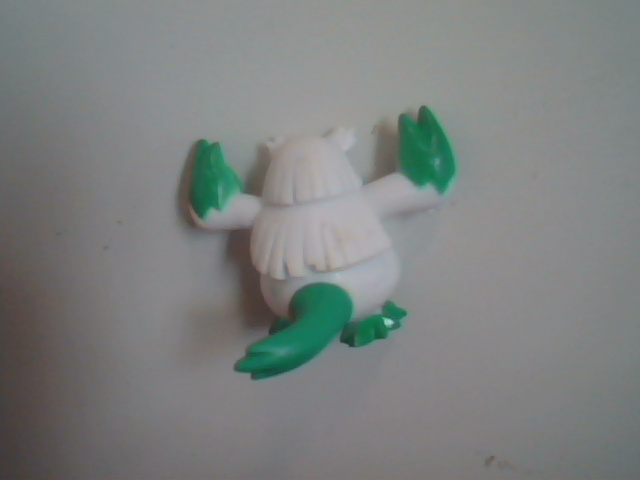abomasnow: (153, 69, 522, 407)
